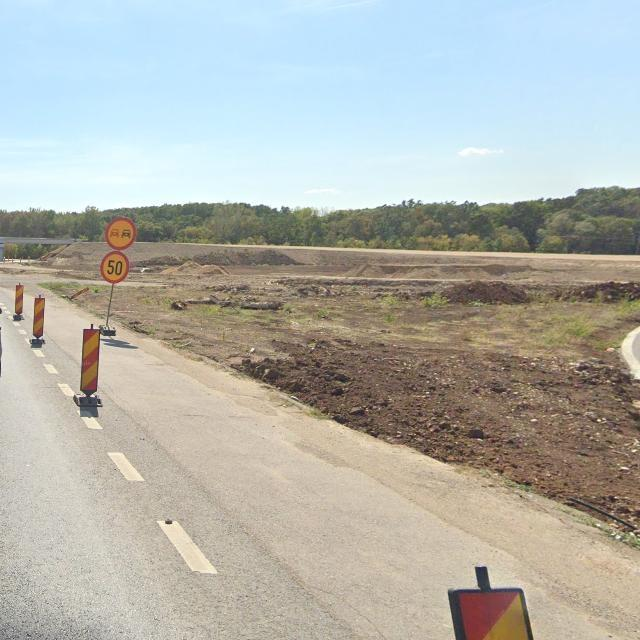forb_overtake: (105, 217, 137, 251)
forb_speed_over_50: (101, 251, 130, 284)
